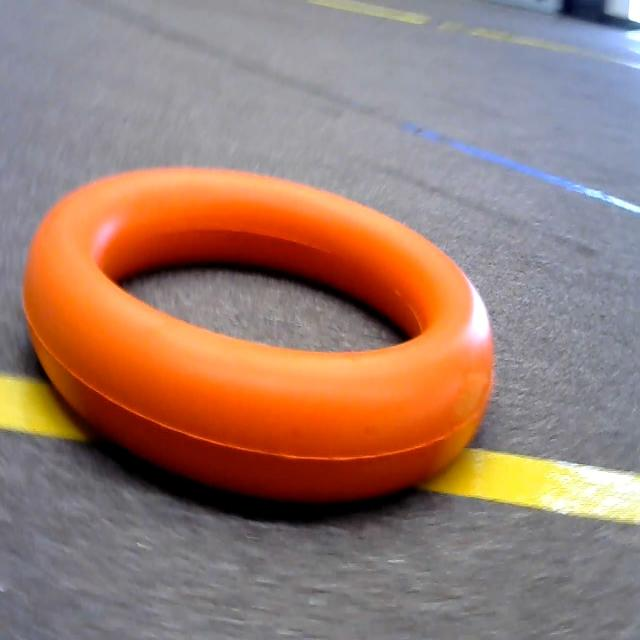note: (6, 150, 508, 512)
